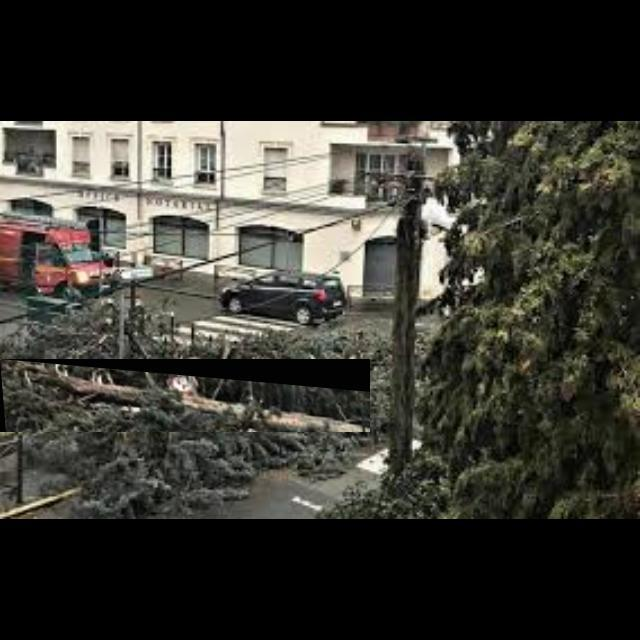fallen_tree: (0, 359, 371, 433)
